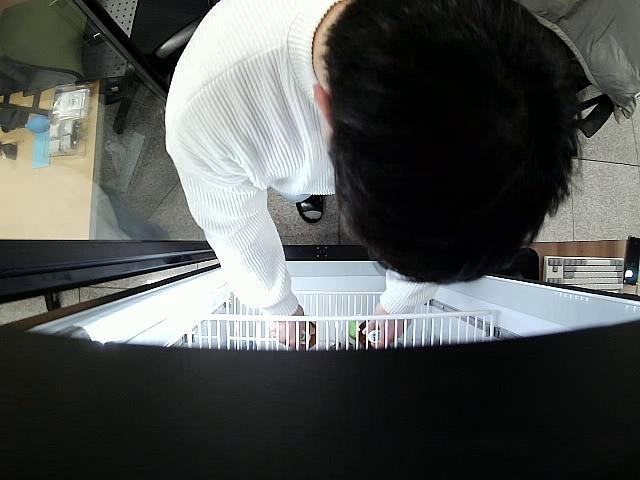19_17cha: (345, 317, 382, 344), (300, 320, 316, 349)
